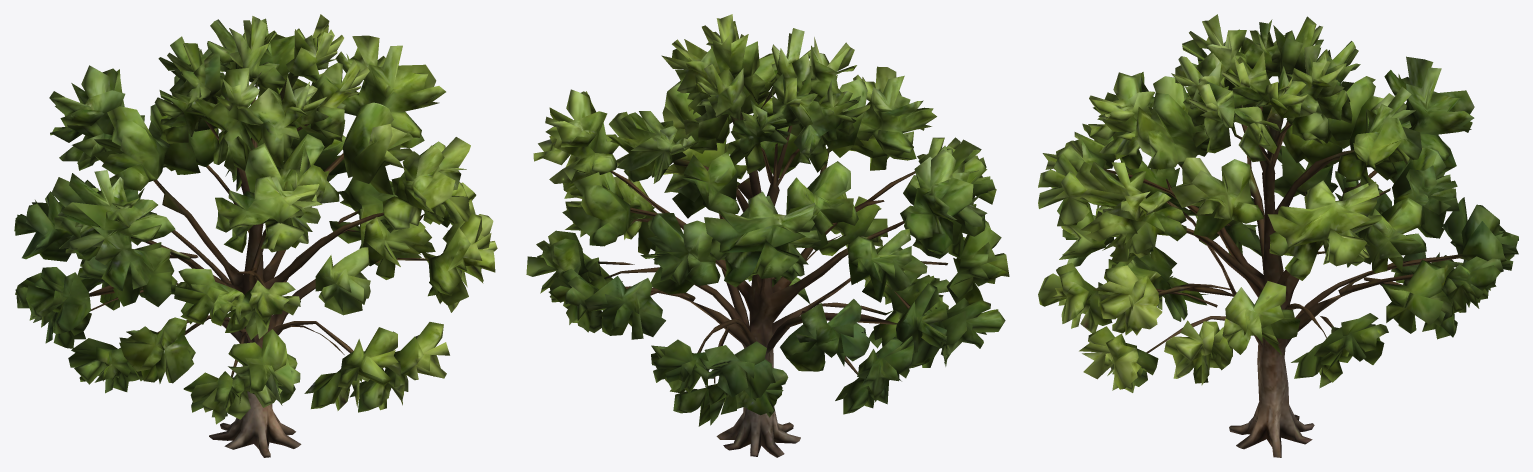
File: tree_oak_green.glb
3 views of the same model, side by side, from view 1: azimuth 30°, elevation 25°; view 2: azimuth 150°, elevation 25°; view 3: azimuth 270°, elevation 25° (orthographic). The views are drawn at different scales.
Visible parts, largest first — view 1: tripo_node_81f33576-7bf6-4468-8bb6-bef4526a3411; view 2: tripo_node_81f33576-7bf6-4468-8bb6-bef4526a3411; view 3: tripo_node_81f33576-7bf6-4468-8bb6-bef4526a3411.
Boxes of the visible parts, bbox=[...] form: tripo_node_81f33576-7bf6-4468-8bb6-bef4526a3411: bbox=[14, 14, 497, 457]; tripo_node_81f33576-7bf6-4468-8bb6-bef4526a3411: bbox=[526, 14, 1009, 457]; tripo_node_81f33576-7bf6-4468-8bb6-bef4526a3411: bbox=[1038, 14, 1518, 457].
Bounding box in the file's own units: 0.998 × 0.9395 × 0.998.
Materials: 1 (1 with a texture image).
